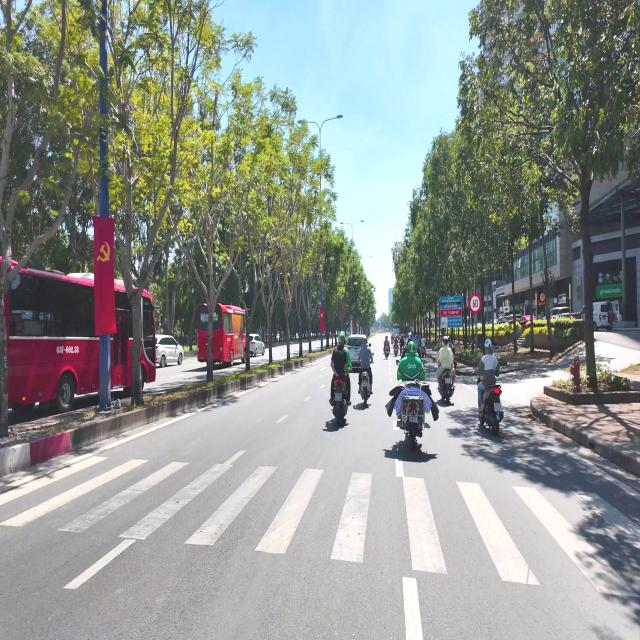car: (156, 335, 183, 367), (347, 335, 367, 368), (249, 334, 265, 356)
motorcycle: (401, 392, 425, 450), (479, 385, 503, 433), (333, 378, 347, 426), (438, 369, 454, 403), (360, 371, 370, 407), (384, 346, 389, 359), (394, 345, 398, 356)
